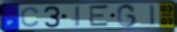3: (42, 5, 62, 29)
C: (20, 6, 41, 28)
E: (89, 4, 111, 28)
G: (116, 4, 138, 28)
I: (74, 5, 82, 28), (148, 3, 156, 26)
